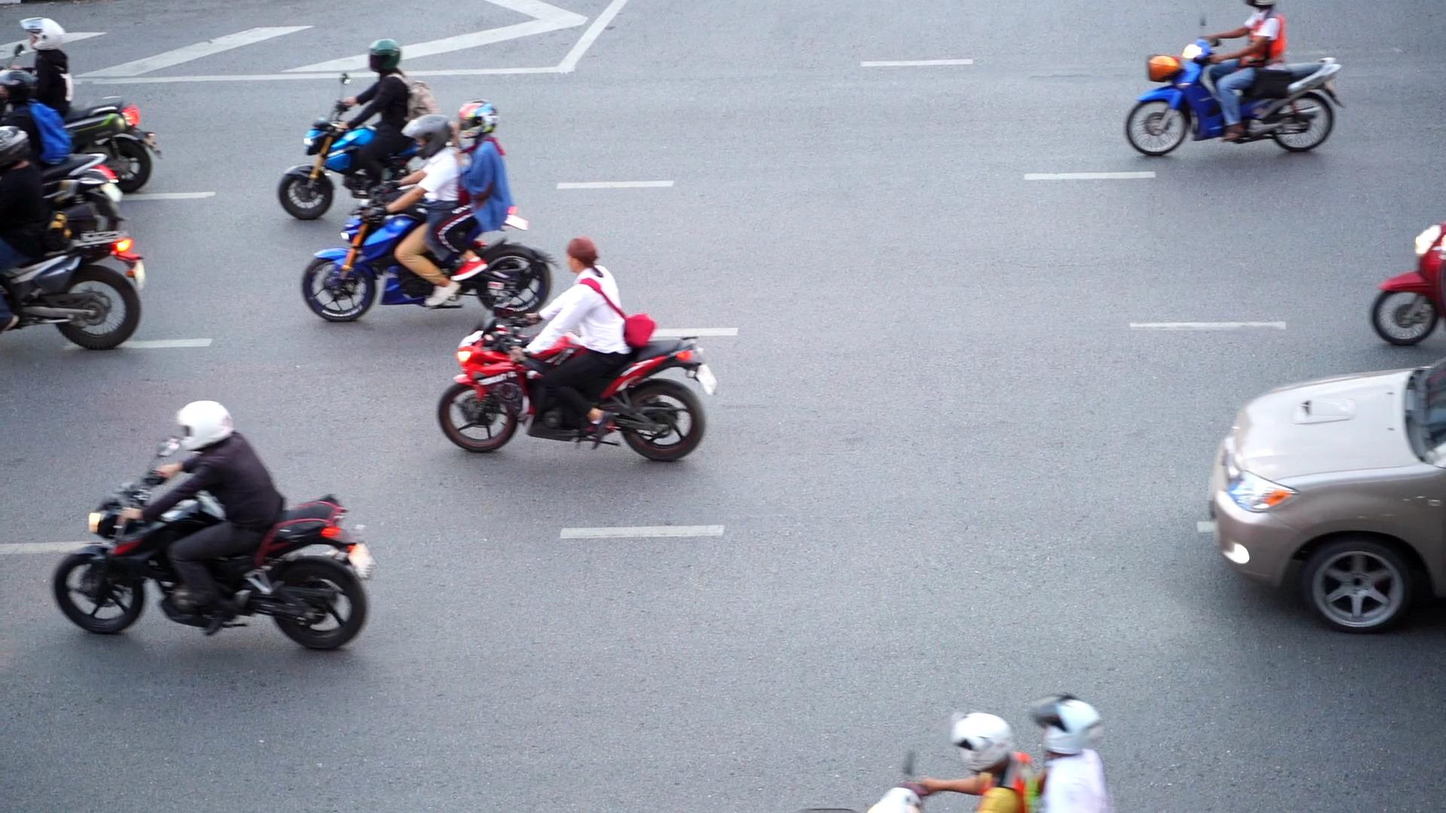driver: (52, 400, 377, 649), (435, 238, 719, 462), (301, 100, 562, 322), (793, 691, 1111, 813), (1126, 0, 1345, 157), (0, 127, 147, 350), (274, 37, 442, 222), (0, 17, 163, 195)
helmet: (1027, 692, 1103, 757), (948, 709, 1016, 772), (177, 401, 234, 452), (401, 114, 452, 159), (458, 98, 499, 140), (19, 17, 65, 52), (1, 69, 39, 107), (1, 125, 31, 173), (369, 36, 401, 73)
no-helmet: (566, 237, 597, 273)
